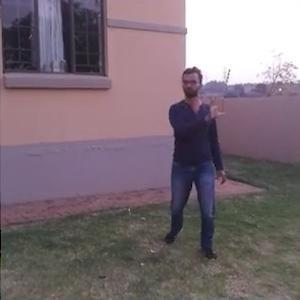follow_hand: (206, 90, 227, 121)
